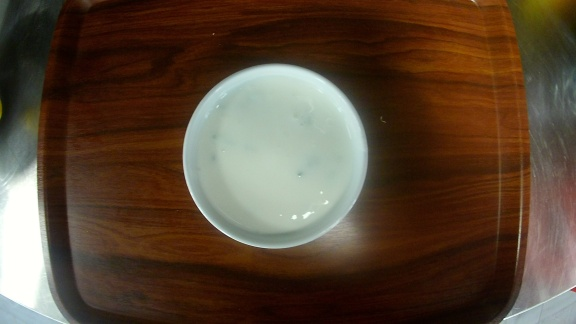cacik: (181, 62, 369, 249)
